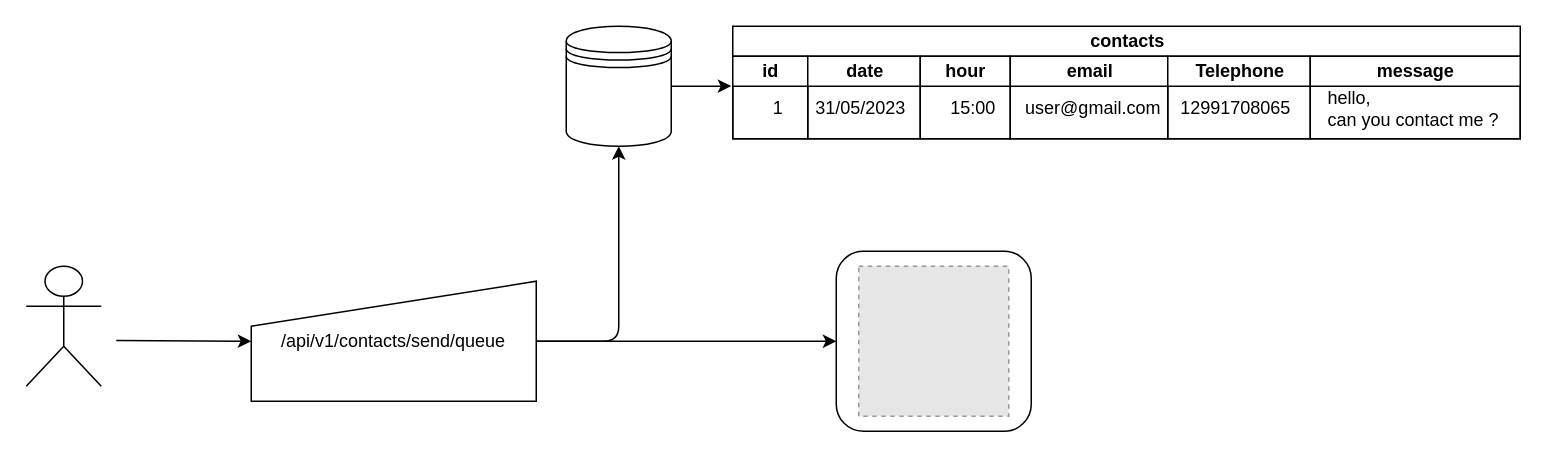
Image size: 1562x458. Some labels were removed from this diagram. Grey dashed boxes stand in for pictures. The centre of each missing label's shape, as x and y in pixels:
postgres: the point at 618,85
User: the point at 63,325
